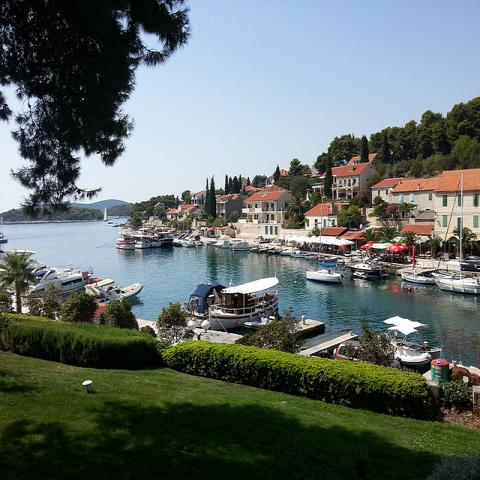car: (460, 256, 480, 269), (448, 253, 456, 259), (437, 252, 442, 257), (425, 251, 431, 255), (211, 234, 215, 237)
